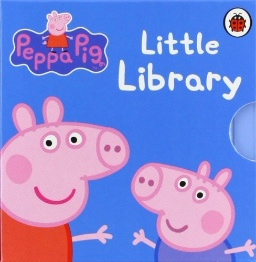Peppa: (1, 94, 131, 262)
